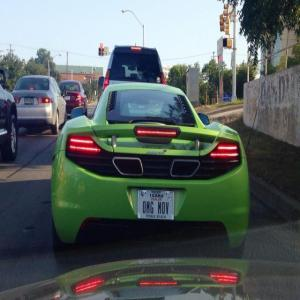Plate: (139, 191, 174, 221), (25, 96, 33, 104), (64, 96, 70, 100)
